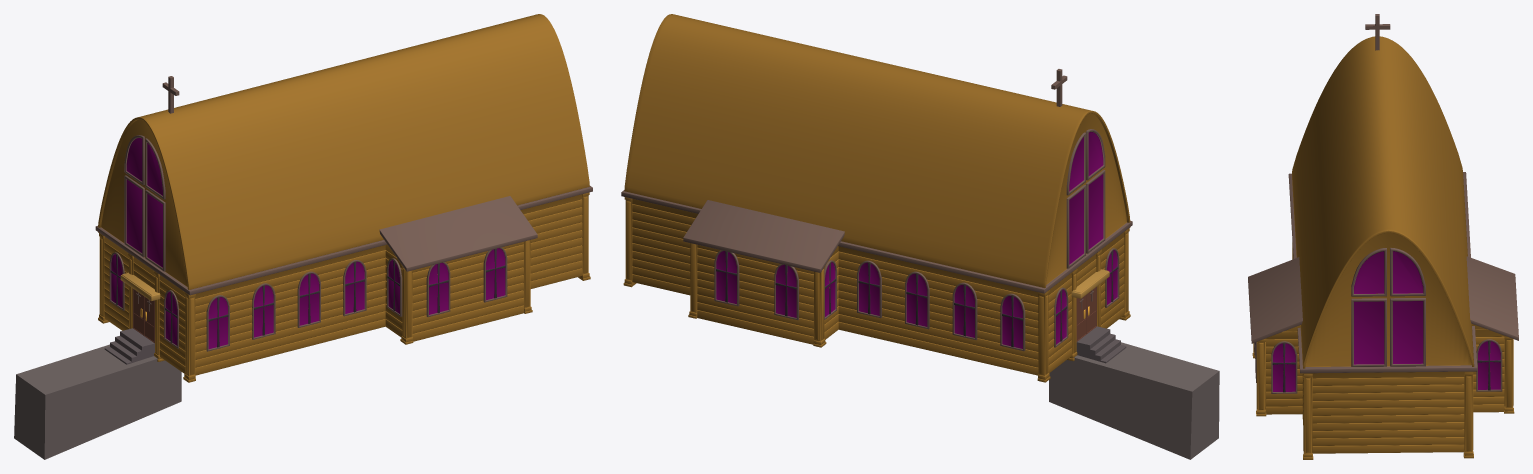
Rendered from church_compressed.glb.
3 renders of one model, left to right at view 1: azimuth 30°, elevation 25°; view 2: azimuth 150°, elevation 25°; view 3: azimuth 270°, elevation 25°, orthographic. The views are drawn at different scales.
Visible parts, largest first — view 1: Cube.138, Cube.149, Cube.156, Cube.157, Cube.145, Cube.141; view 2: Cube.138, Cube.149, Cube.156, Cube.157, Cube.145, Cube.141; view 3: Cube.138, Cube.156, Cube.157.
Part boxes in pixels (x1,y1,x2,y2): Cube.138: [95, 14, 592, 382]; Cube.149: [14, 344, 181, 459]; Cube.156: [111, 138, 505, 349]; Cube.157: [110, 248, 505, 347]; Cube.145: [104, 328, 154, 364]; Cube.141: [133, 289, 154, 343]; Cube.138: [621, 14, 1132, 382]; Cube.149: [1049, 342, 1219, 459]; Cube.156: [716, 132, 1117, 348]; Cube.157: [716, 250, 1118, 347]; Cube.145: [1076, 326, 1126, 363]; Cube.141: [1076, 287, 1096, 341]; Cube.138: [1248, 14, 1518, 459]; Cube.156: [1273, 251, 1500, 391]; Cube.157: [1255, 341, 1500, 392].
Size of the model in its own units: 6.78 by 4.16 by 3.09.
